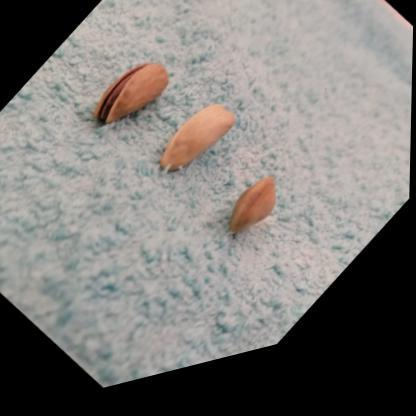pistachio: (95, 58, 167, 131), (163, 109, 236, 172), (228, 174, 278, 239)
